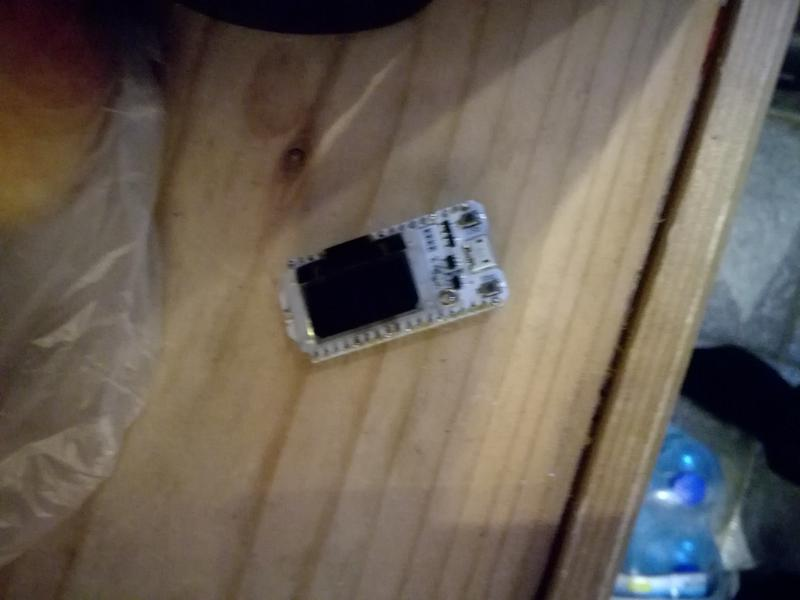Heltec_ESP32_Lora: (274, 196, 517, 366)
